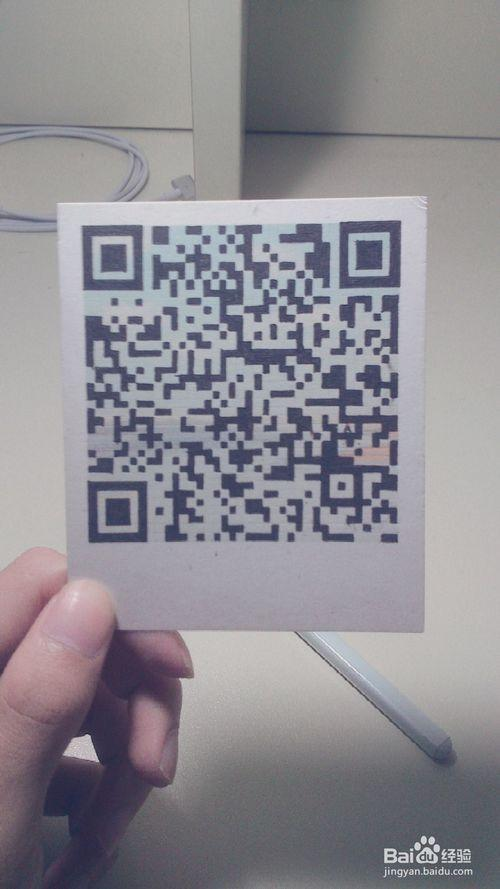QRCode: (74, 219, 405, 555)
